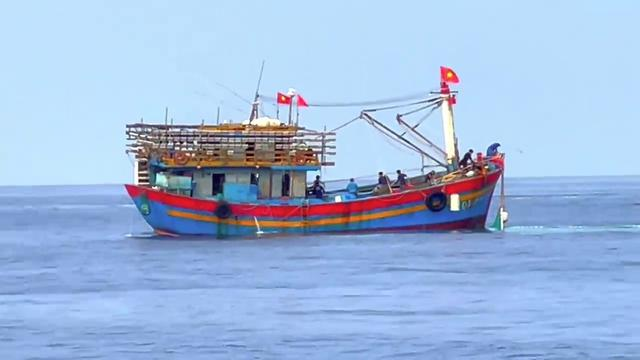Ship: (117, 92, 512, 239)
